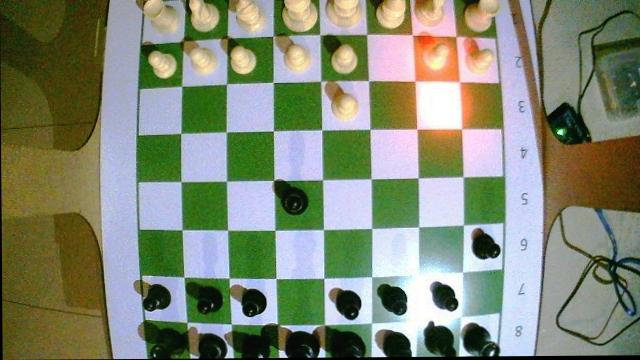piece: (325, 83, 358, 119), (280, 0, 318, 30), (143, 0, 178, 32), (274, 181, 307, 214), (276, 37, 309, 70), (229, 0, 264, 30), (464, 0, 498, 30), (463, 324, 497, 354), (424, 325, 456, 356), (188, 0, 219, 31), (183, 43, 215, 72), (377, 284, 406, 315), (325, 0, 359, 25), (375, 0, 405, 28), (147, 50, 176, 78), (330, 43, 357, 73), (473, 229, 500, 258), (153, 330, 182, 357), (330, 332, 363, 355), (333, 290, 360, 318), (421, 43, 449, 69), (379, 331, 408, 356), (230, 46, 255, 74), (289, 332, 317, 357), (143, 285, 170, 310), (432, 283, 457, 310), (242, 288, 266, 316), (415, 0, 443, 23), (197, 287, 221, 313), (202, 334, 227, 358), (243, 334, 269, 357), (469, 48, 489, 70)
